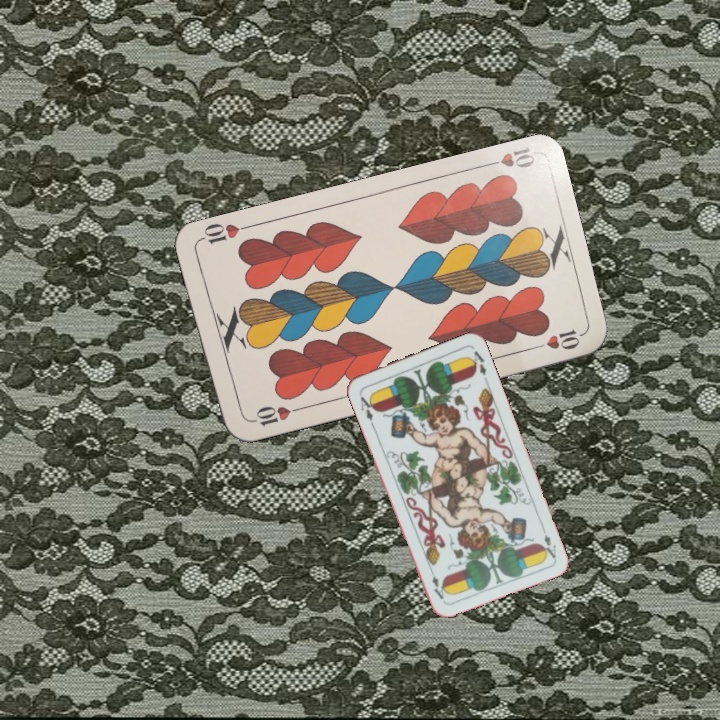EA: (355, 389, 378, 429), (537, 521, 559, 561)
H10: (479, 143, 538, 172), (244, 402, 303, 430)
